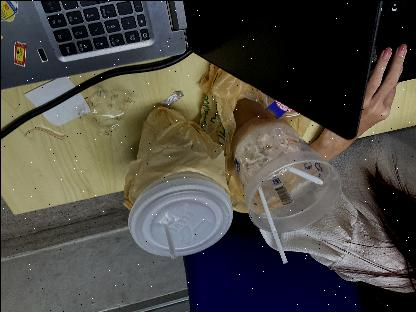Others: (193, 58, 310, 214), (228, 97, 342, 235), (124, 104, 226, 210), (126, 172, 234, 258), (22, 72, 90, 128), (77, 78, 133, 138), (253, 181, 289, 264), (286, 165, 324, 185), (154, 86, 184, 110), (160, 221, 176, 259)
